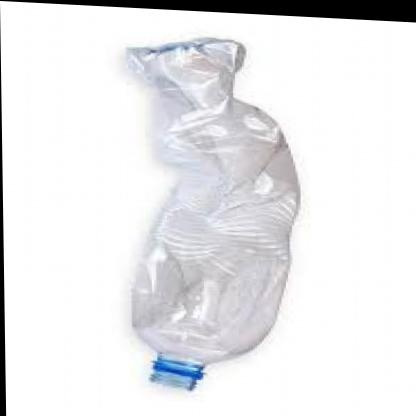trash: (127, 38, 298, 386)
